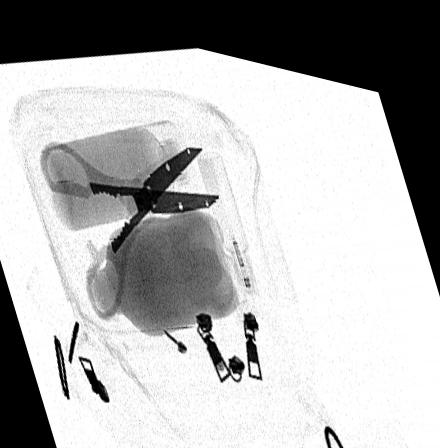Scissors: (37, 132, 222, 318)
